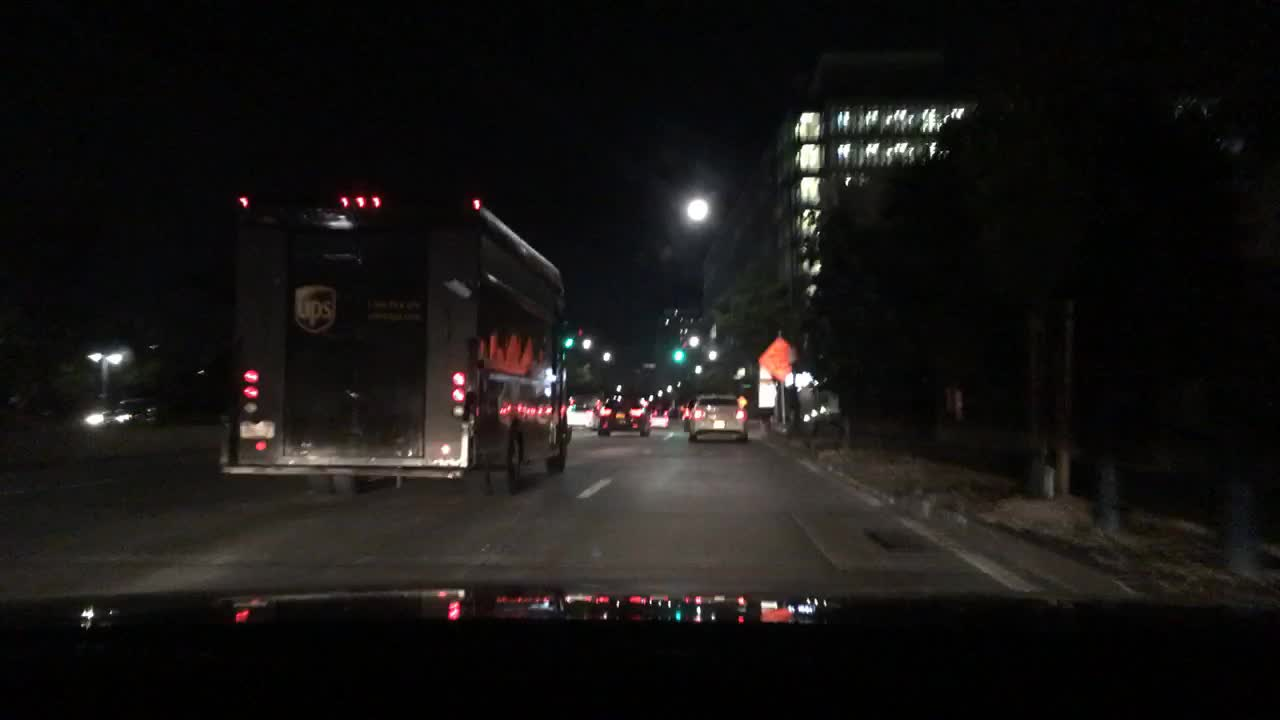car: (683, 392, 748, 443), (595, 391, 650, 437), (72, 397, 152, 428), (564, 401, 594, 431), (651, 406, 671, 429)
traffic light: (672, 347, 684, 363), (565, 334, 573, 356)
traffic sign: (756, 340, 795, 381), (758, 379, 778, 406)
truck: (222, 174, 575, 494)
